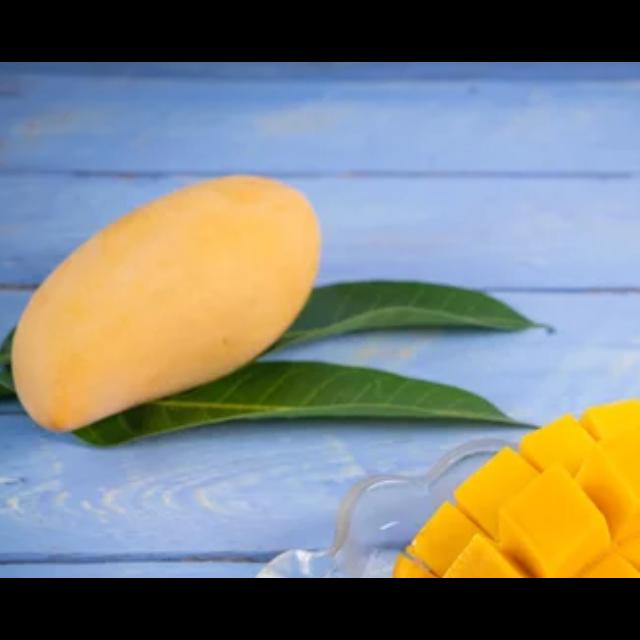mango: (11, 173, 321, 435)
